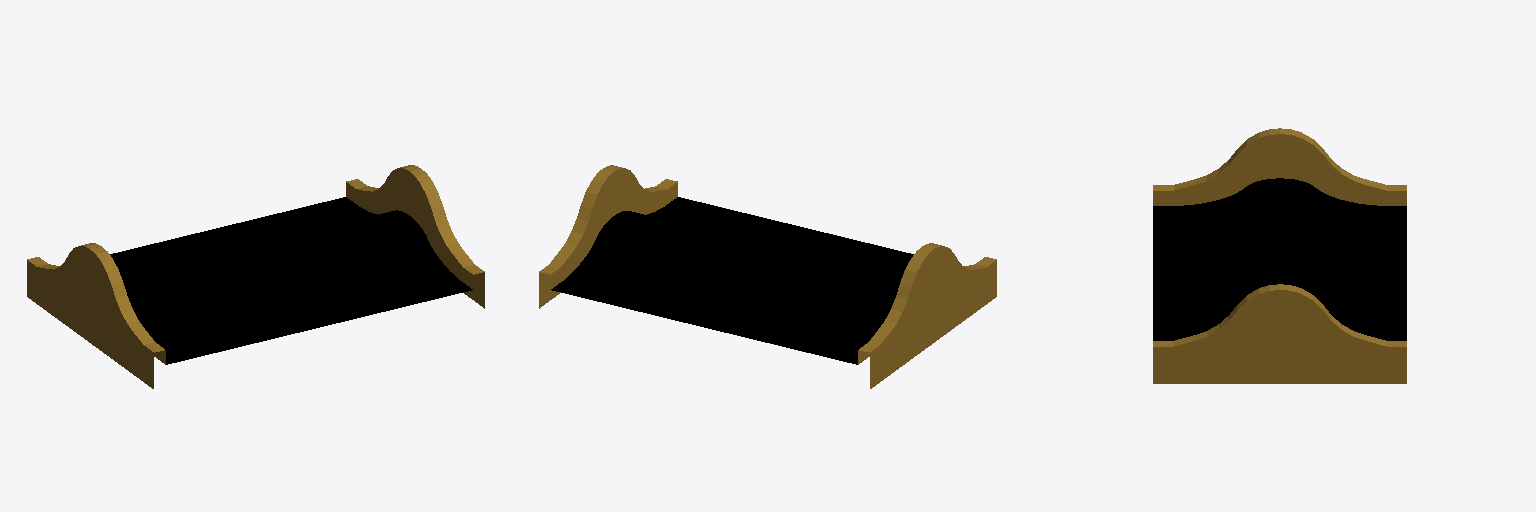
Rendered from sHill_B_2x3.obj.
3 renders of one model, left to right at view 1: azimuth 30°, elevation 25°; view 2: azimuth 150°, elevation 25°; view 3: azimuth 270°, elevation 25°, orthographic.
Parts seen in each view (by area): view 1: sHill_B_2x3:sHill_B_2x3; view 2: sHill_B_2x3:sHill_B_2x3; view 3: sHill_B_2x3:sHill_B_2x3.
Part boxes in pixels (x1,y1,x2,y2): sHill_B_2x3:sHill_B_2x3: (27, 165, 484, 388); sHill_B_2x3:sHill_B_2x3: (539, 165, 996, 388); sHill_B_2x3:sHill_B_2x3: (1153, 128, 1406, 383).
Size of the model in its own units: 3 by 0.8115 by 2.